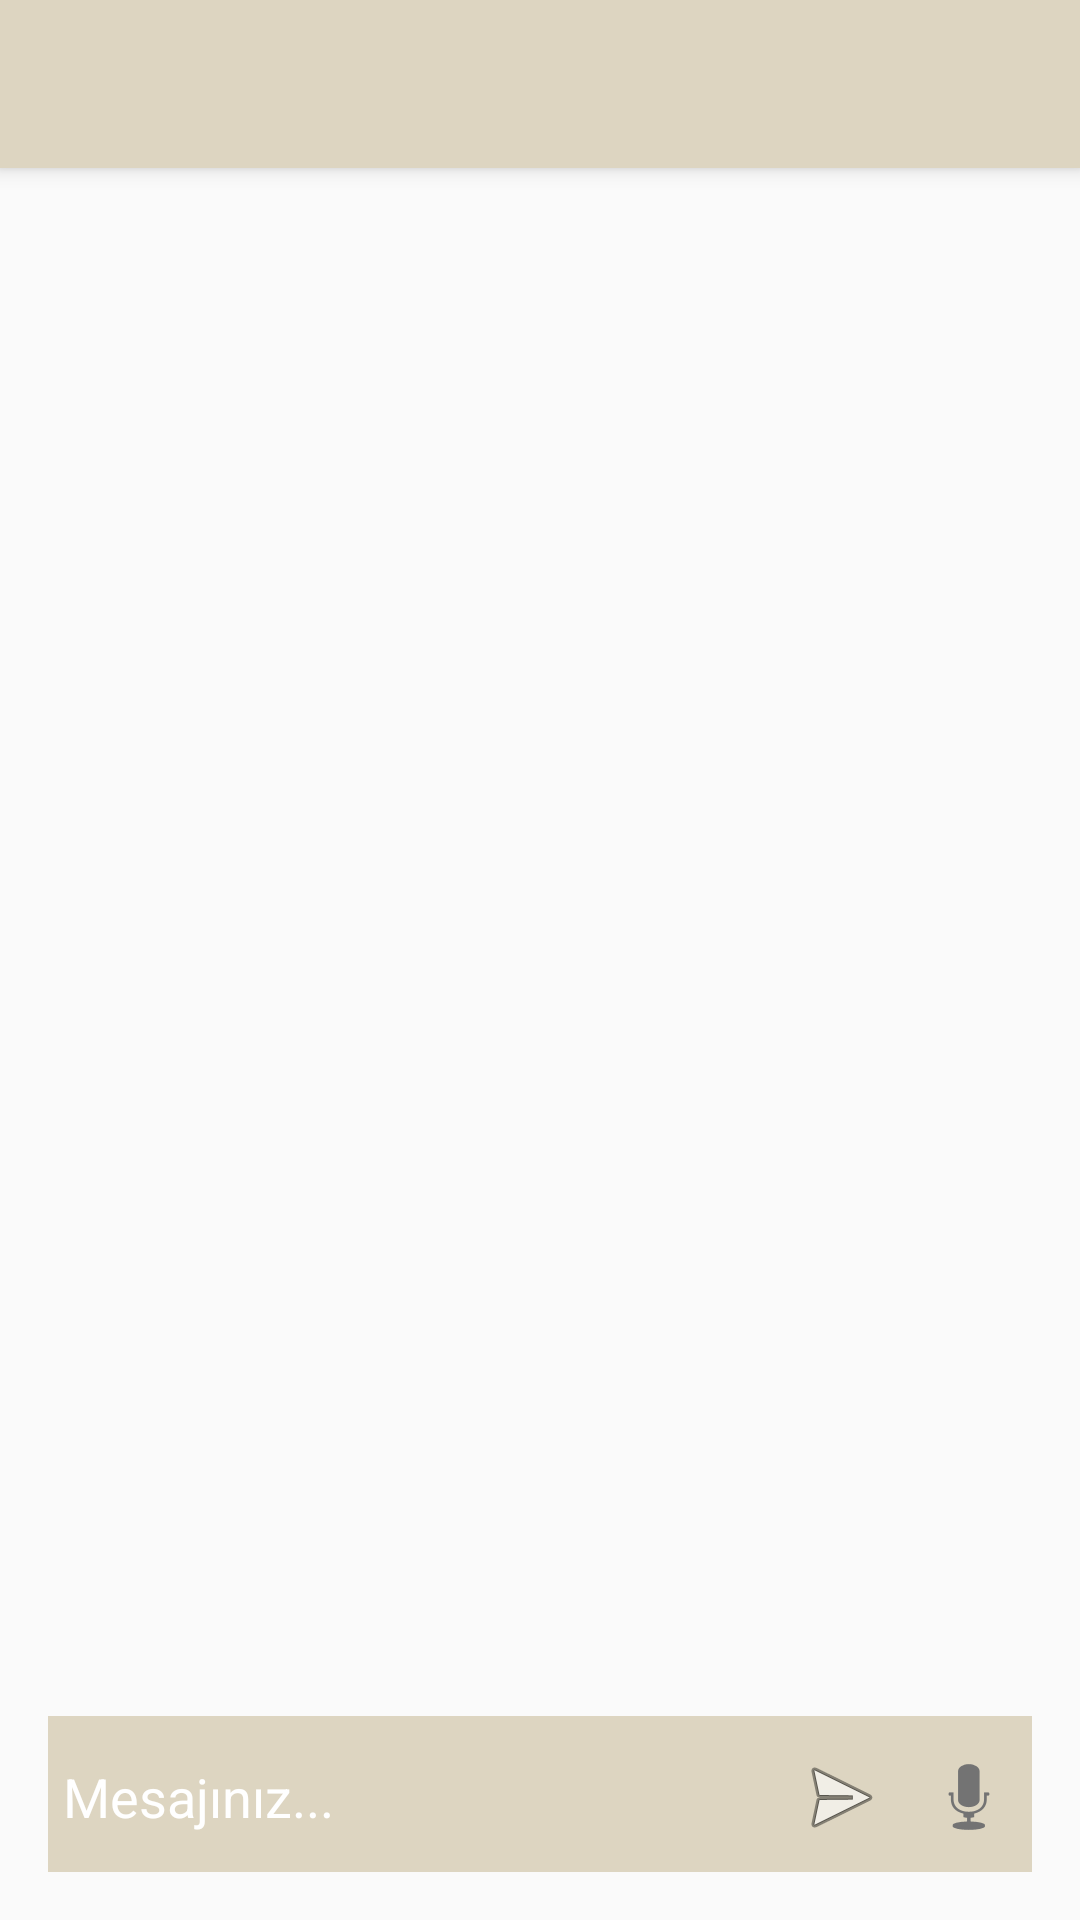

Named icons in this screenshot (1080w x 1920h) and their bounding boxes, region(x1, y1, x2, y2):
send: region(811, 1767, 873, 1828)
speak now: region(948, 1764, 990, 1830)
